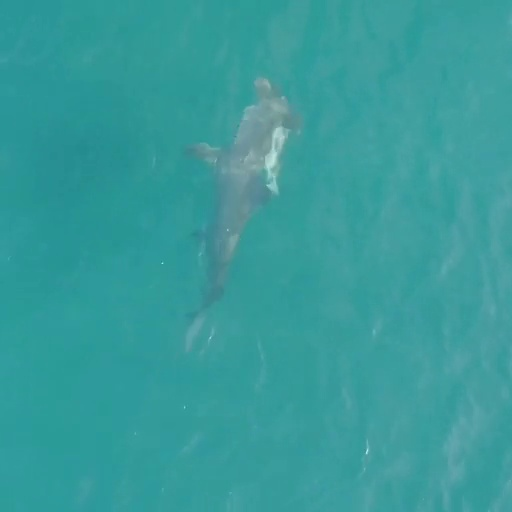shark: (179, 76, 308, 356)
